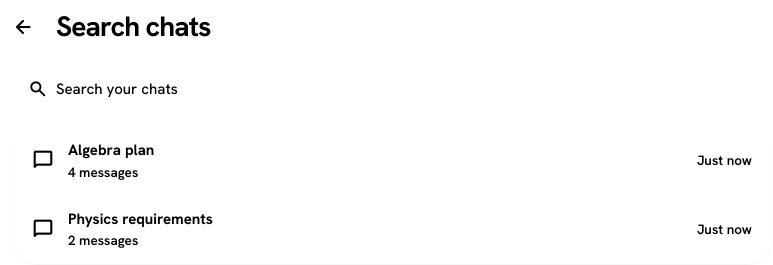
Test case: shows an empty state when no chats match
Expected: the text "Algebra plan" is shown, top-left (68, 140), bottom-right (154, 160)
In the search field labelled "Search your chats": (406, 89) top-left (56, 69), bottom-right (756, 109), type "zzzz"
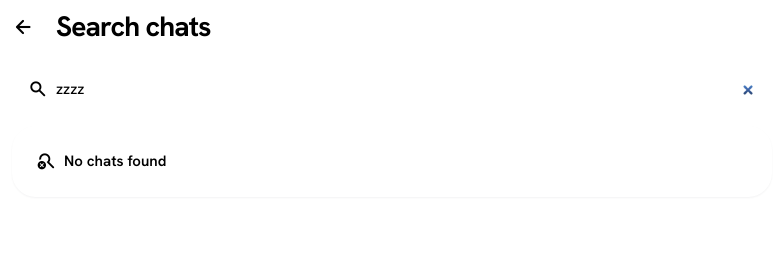
Now the text "No chats found" is shown, box top-left (36, 149), bottom-right (166, 173)
